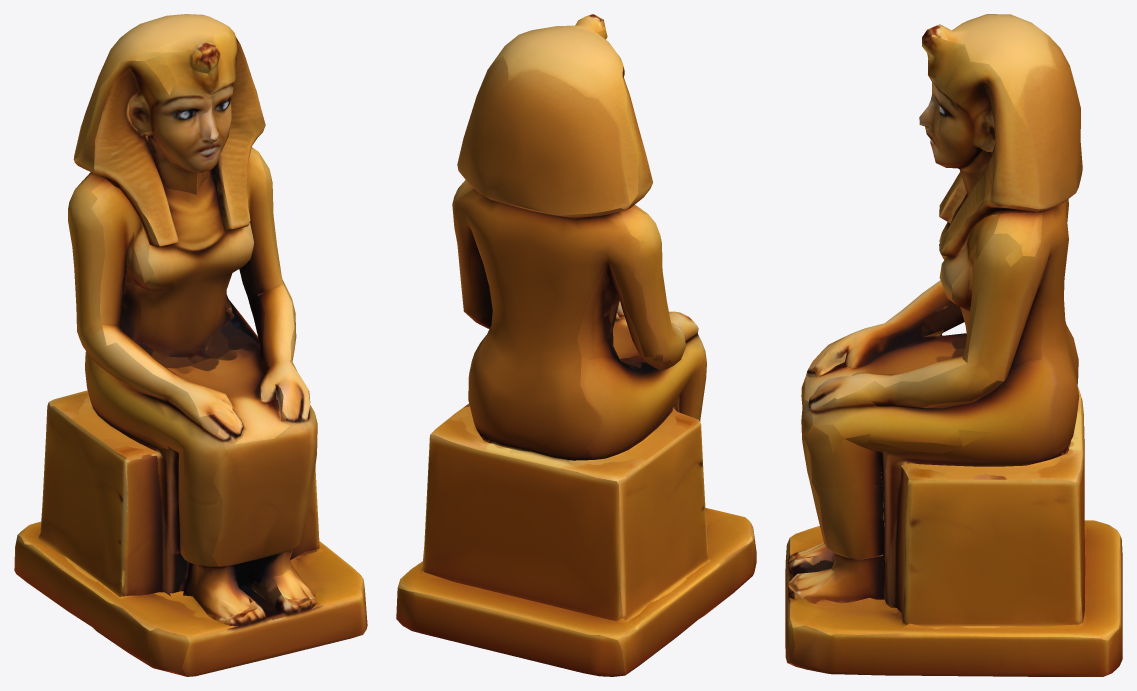
File: Statue.fbx
The picture shows the model from 3 angles, left to right: view 1: azimuth 30°, elevation 25°; view 2: azimuth 150°, elevation 25°; view 3: azimuth 270°, elevation 25°; orthographic projection. The views are drawn at different scales.
Parts seen in each view (by area): view 1: tmpgsveu8m0.ply; view 2: tmpgsveu8m0.ply; view 3: tmpgsveu8m0.ply.
Boxes of the visible parts, <box> form: tmpgsveu8m0.ply: <box>14,14,367,676</box>; tmpgsveu8m0.ply: <box>396,14,756,676</box>; tmpgsveu8m0.ply: <box>785,14,1122,676</box>.
Size of the model in its own units: 84.24 by 199 by 102.
1 material, 1 textured.
